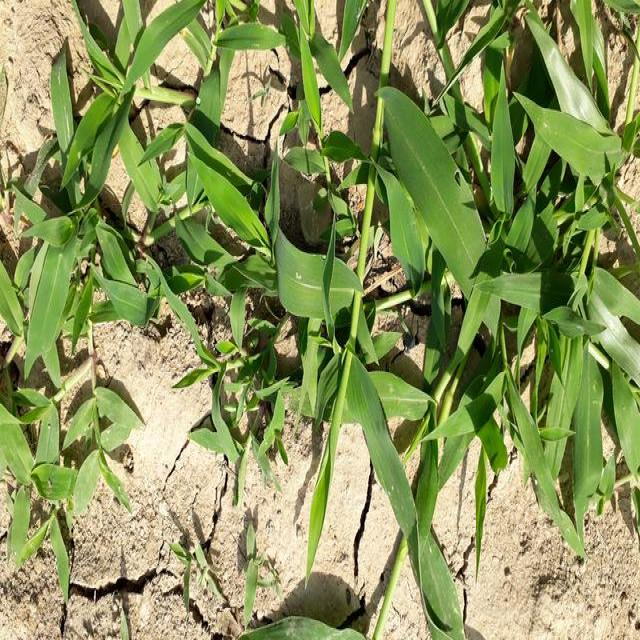weed: (64, 16, 640, 239), (317, 10, 495, 598), (476, 39, 640, 538), (164, 242, 368, 468), (10, 198, 127, 569)
